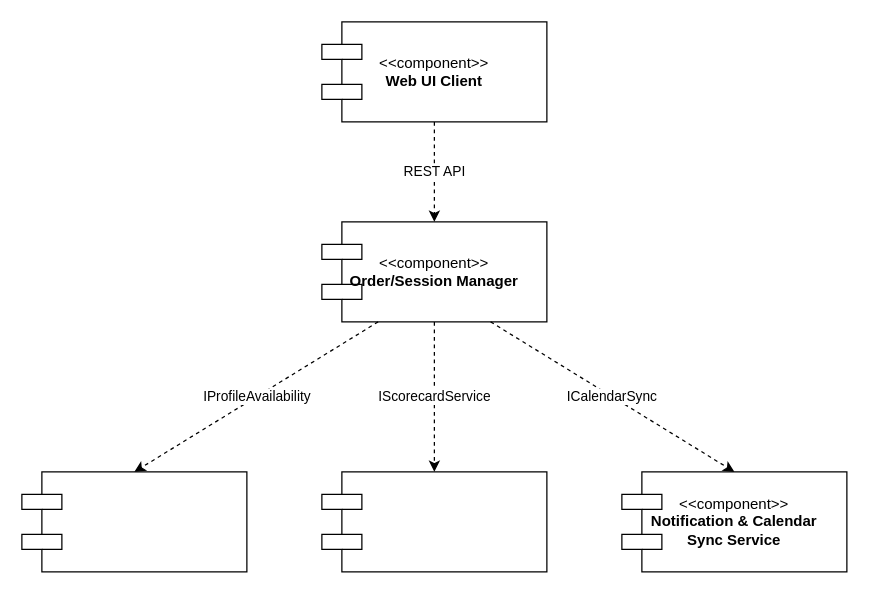
Some shapes in this 869 by 594 pixel diagram are drawn without their labels. Each missing label, with the box of its shape:
<<component>> Alumni Profile & Availability Service: (21, 471, 247, 572)
<<component>> Rating & Scorecard Service: (321, 471, 547, 572)
